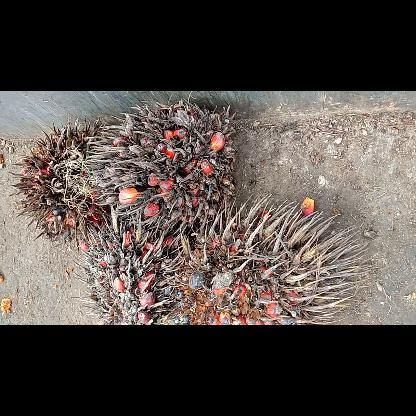Terlalu masak: (161, 188, 375, 324), (83, 99, 241, 243), (7, 113, 116, 252), (71, 210, 195, 324)
